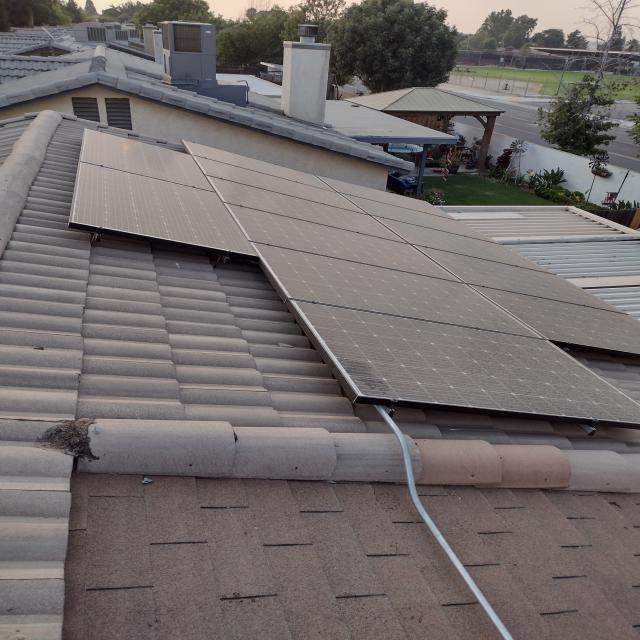dust-solar-panel: (67, 127, 640, 425)
